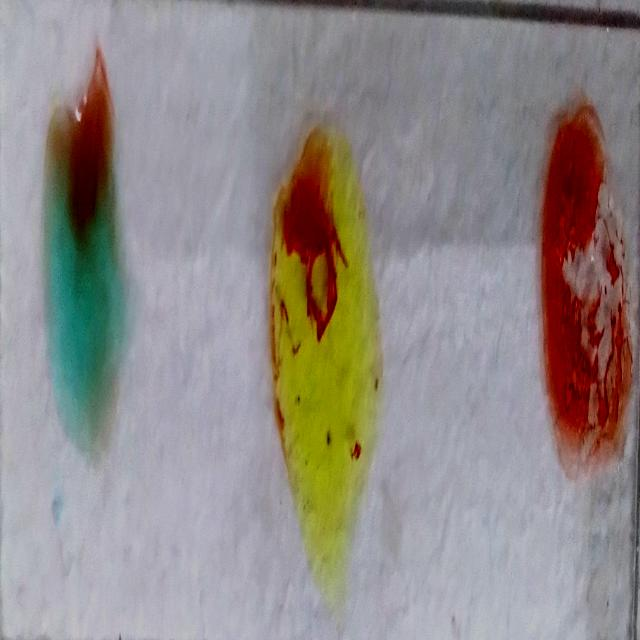B: (269, 122, 376, 580)
D: (539, 99, 631, 485)
